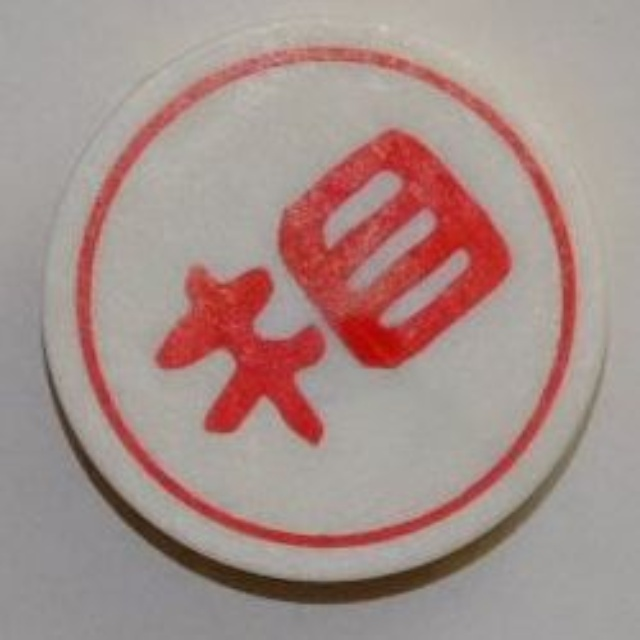red_bo: (39, 14, 611, 587)
